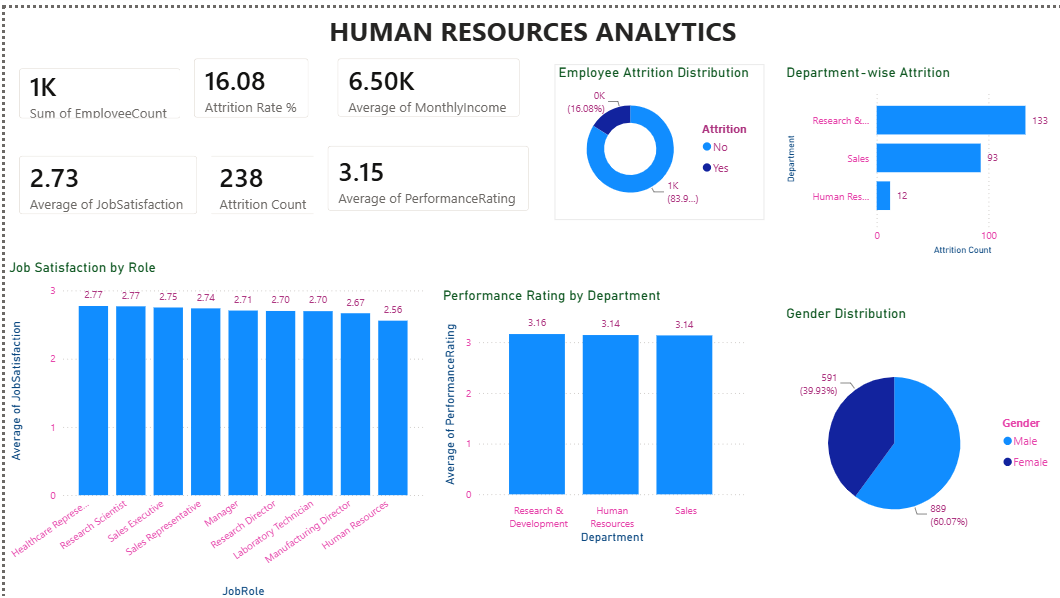

What the dashboard file says about the page in this screenshot:
{"tool":"powerbi","page":{"name":"Page 1","canvas":[1280,720],"ordinal":0},"visuals":[{"type":"cardVisual","fields":{"Data":["Sum(HR_Analytics.EmployeeCount)"]},"box":[0,55,230,95],"z":0},{"type":"cardVisual","fields":{"Data":["HR_Analytics.Attrition Count"]},"box":[230,161.7,180,105],"z":1},{"type":"cardVisual","fields":{"Data":["HR_Analytics.Attrition Rate %"]},"box":[211.7,43.3,173.3,106.7],"z":2},{"type":"cardVisual","fields":{"Data":["Avg(HR_Analytics.MonthlyIncome)"]},"box":[385,43.3,255,105],"z":3},{"type":"cardVisual","fields":{"Data":["Avg(HR_Analytics.JobSatisfaction)"]},"box":[0,161.7,250,105],"z":4},{"type":"cardVisual","fields":{"Data":["Avg(HR_Analytics.PerformanceRating)"]},"box":[373.3,150,278.3,113.3],"z":5},{"type":"donutChart","title":"Employee Attrition Distribution","fields":{"Category":["HR_Analytics.Attrition"],"Y":["Sum(HR_Analytics.EmployeeCount)"]},"box":[665,68.3,255,186.7],"z":6},{"type":"clusteredBarChart","title":"Department-wise Attrition","fields":{"Category":["HR_Analytics.Department"],"Y":["HR_Analytics.Attrition Count"]},"box":[942,68,338,236],"z":7},{"type":"columnChart","title":"Job Satisfaction by Role","fields":{"Category":["HR_Analytics.JobRole"],"Y":["Avg(HR_Analytics.JobSatisfaction)"]},"box":[0,304,512,416],"z":8},{"type":"clusteredColumnChart","title":"Performance Rating by Department","fields":{"Category":["HR_Analytics.Department"],"Y":["Avg(HR_Analytics.PerformanceRating)"]},"box":[526,338,376,316],"z":9},{"type":"pieChart","title":"Gender Distribution","fields":{"Category":["HR_Analytics.Gender"],"Y":["Sum(HR_Analytics.EmployeeCount)"]},"box":[942,360,338,316],"z":10},{"type":"textbox","box":[0,0,1280,56],"z":11}]}

Visuals, with their boxes in screenshot pixels (x1, y1, x2, y2), scaled from the page's 1280x720 canvas onto the 1060x598 screenshot:
cardVisual - Sum(HR_Analytics.EmployeeCount): 0:46:190:125
cardVisual - HR_Analytics.Attrition Count: 190:134:340:222
cardVisual - HR_Analytics.Attrition Rate %: 175:36:319:125
cardVisual - Avg(HR_Analytics.MonthlyIncome): 319:36:530:123
cardVisual - Avg(HR_Analytics.JobSatisfaction): 0:134:207:222
cardVisual - Avg(HR_Analytics.PerformanceRating): 309:125:540:219
"Employee Attrition Distribution" donutChart: 551:57:762:212
"Department-wise Attrition" clusteredBarChart: 780:56:1059:252
"Job Satisfaction by Role" columnChart: 0:252:424:597
"Performance Rating by Department" clusteredColumnChart: 436:281:747:543
"Gender Distribution" pieChart: 780:299:1059:561
textbox: 0:0:1059:47
